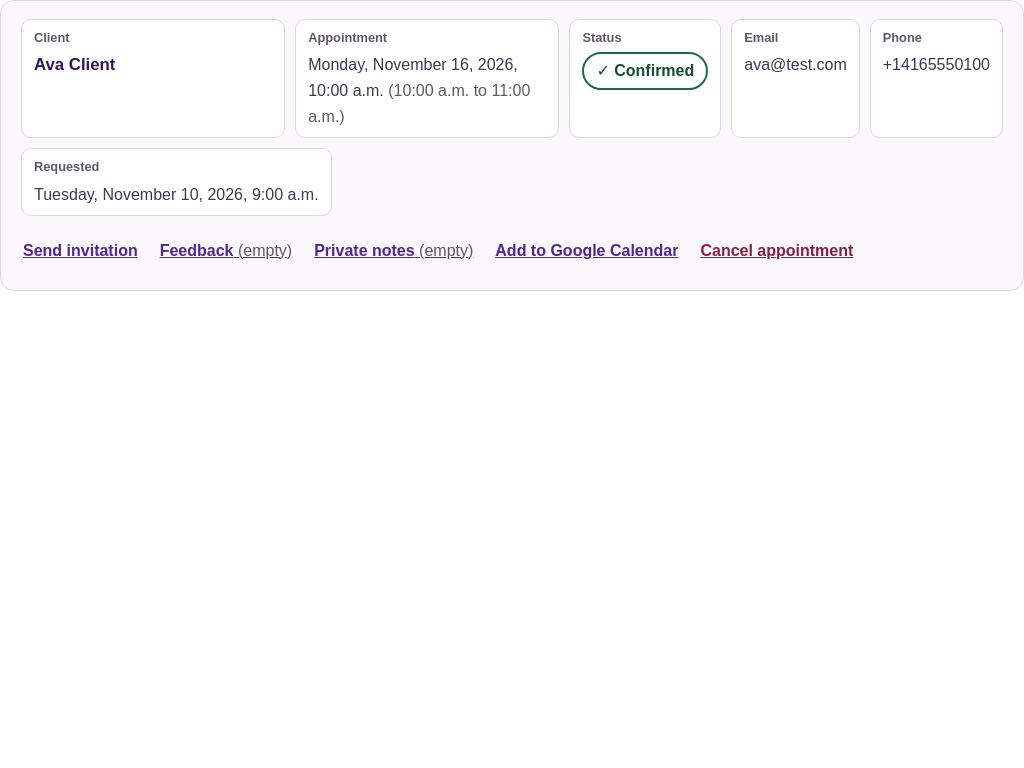
Test: AdminAppointmentCard: invitation › says no invitation has been sent yet
Click the button "Send invitation": point(80, 250) x1=21 y1=228 x2=140 y2=272
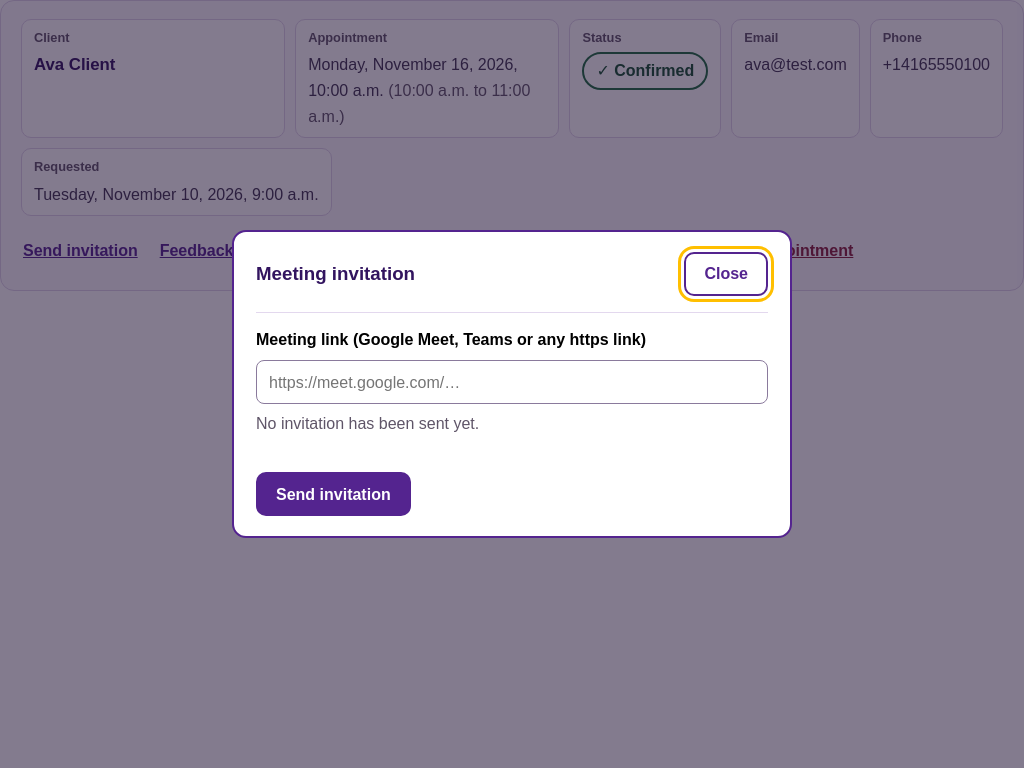
Now the text "No invitation has been sent yet." is shown, box x1=256 y1=415 x2=479 y2=432
